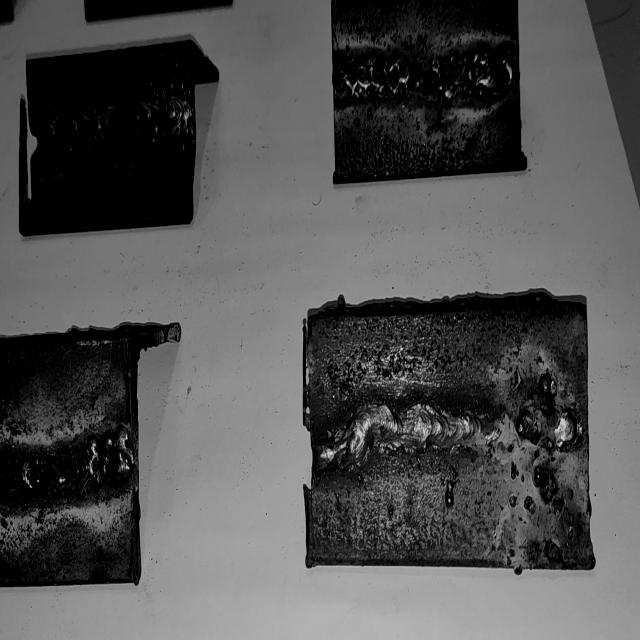Defect: (509, 370, 581, 559), (338, 54, 518, 101), (9, 436, 128, 504)
Good Weld: (317, 405, 494, 468), (39, 100, 187, 147)
